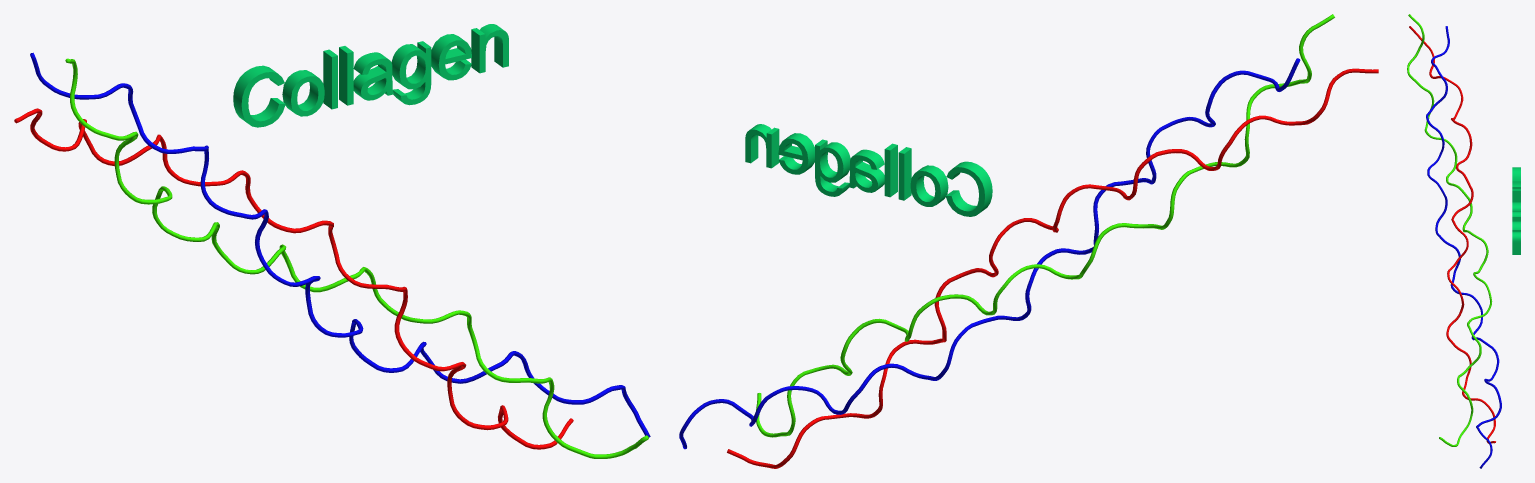
File: collagen.glb
The picture shows the model from 3 angles, left to right: view 1: azimuth 30°, elevation 25°; view 2: azimuth 150°, elevation 25°; view 3: azimuth 270°, elevation 25°; orthographic projection. The views are drawn at different scales.
Visible parts, largest first — view 1: collagen; view 2: collagen; view 3: collagen.
Part boxes in pixels (x1=…): collagen: x1=14, y1=24, x2=650, y2=458; collagen: x1=679, y1=14, x2=1378, y2=468; collagen: x1=1407, y1=14, x2=1520, y2=468.
Bounding box in the file's own units: 74.08 × 59.35 × 20.69.
